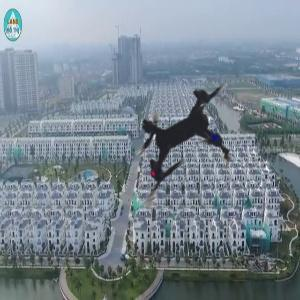drone: (75, 33, 292, 250)
